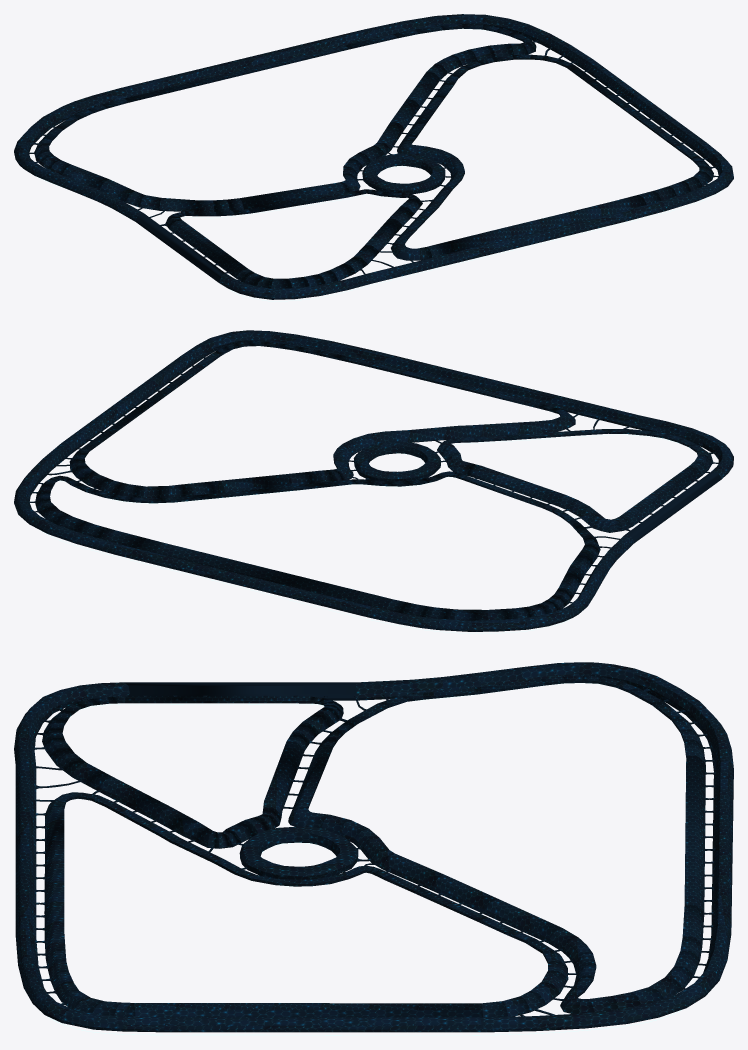
Rendered from Train track.fbx.
3 renders of one model, top to bottom at view 1: azimuth 30°, elevation 25°; view 2: azimuth 150°, elevation 25°; view 3: azimuth 270°, elevation 25°, orthographic. The views are drawn at different scales.
Visible parts, largest first — view 1: Train_track; view 2: Train_track; view 3: Train_track.
Boxes of the visible parts, box(x1,y1,x2,y2) form: Train_track: box(14, 14, 733, 301); Train_track: box(14, 330, 733, 633); Train_track: box(14, 662, 733, 1035).
Bounding box in the file's own units: 22138 × 440 × 18532.
Materials: 2 (1 with a texture image).
